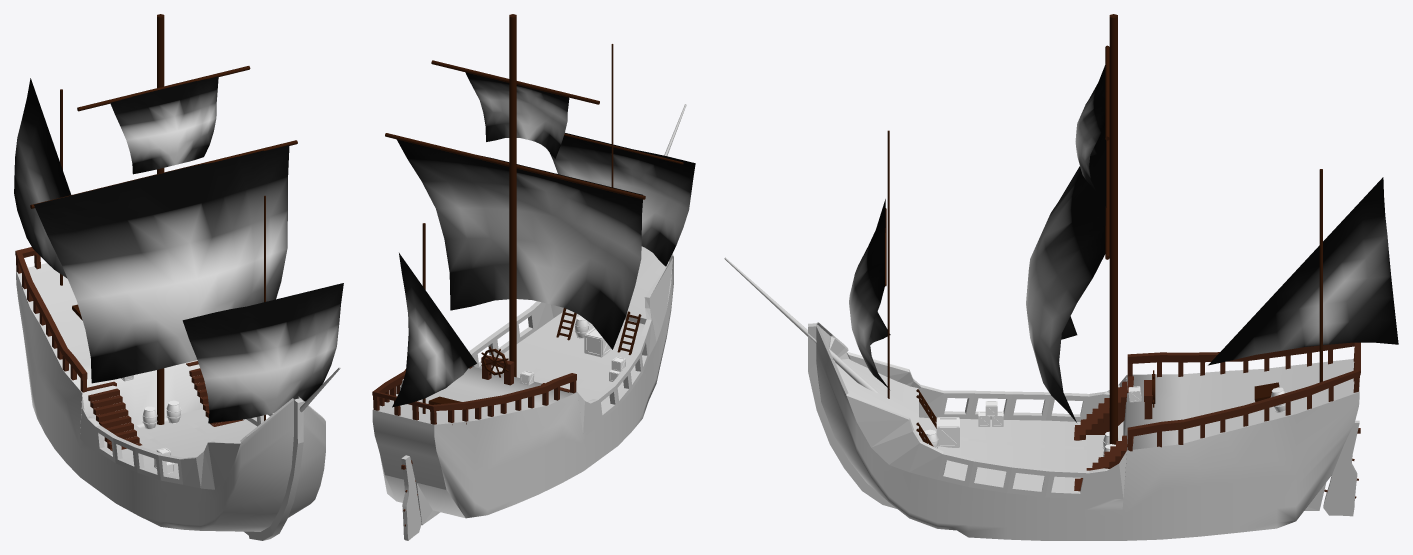
Rendered from Ship 1.fbx.
The picture shows the model from 3 angles, left to right: view 1: azimuth 30°, elevation 25°; view 2: azimuth 150°, elevation 25°; view 3: azimuth 270°, elevation 25°; orthographic projection. The views are drawn at different scales.
Parts seen in each view (by area): view 1: Ship; view 2: Ship; view 3: Ship.
Part boxes in pixels (x1,y1,x2,y2): Ship: (14, 14, 343, 540); Ship: (372, 14, 695, 540); Ship: (724, 14, 1398, 540).
Size of the model in its own units: 106 by 175 by 214.
